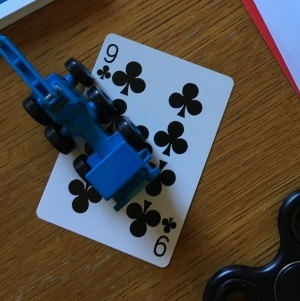card: (39, 32, 233, 269)
